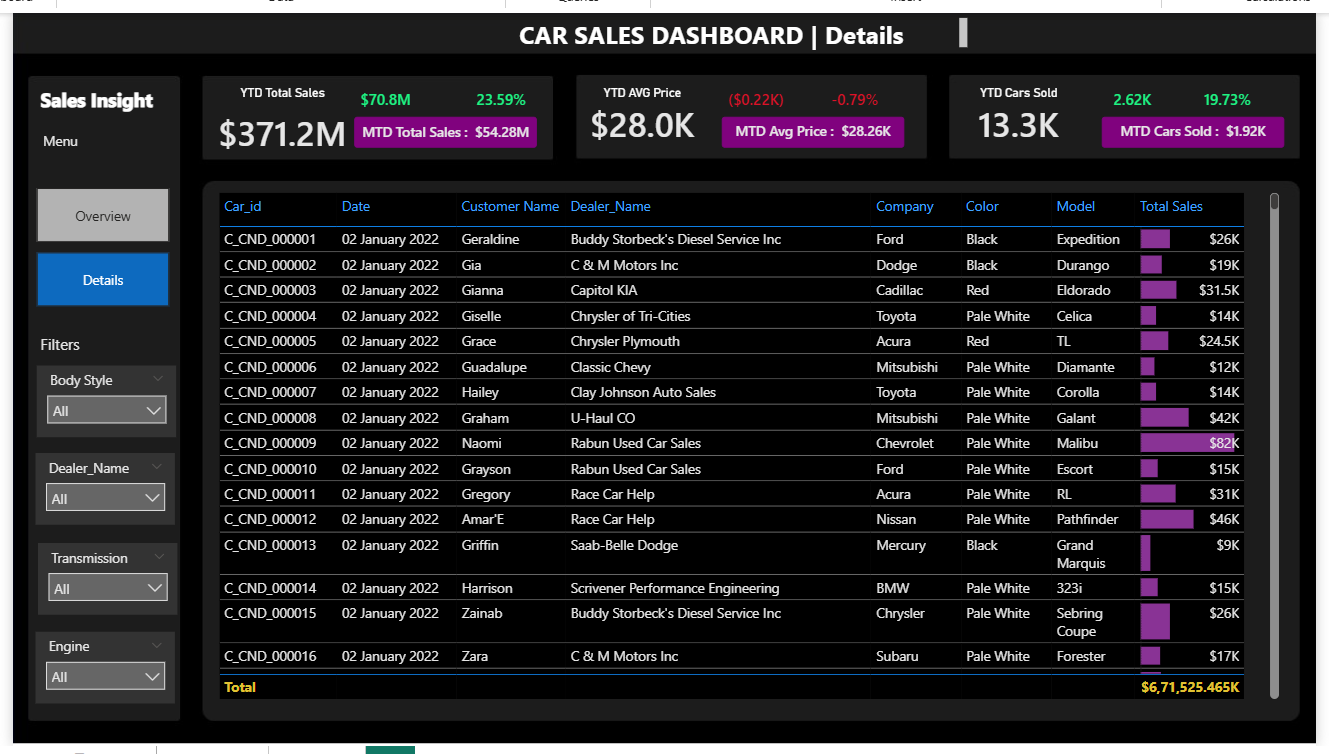

The page's visual inventory and layout, read from the dashboard file:
{"tool":"powerbi","page":{"name":"Details","canvas":[1280,720],"ordinal":1},"visuals":[{"type":"card","title":"YTD Total Sales","fields":{"Values":["car_data.YTD Total Sales"]},"box":[193.3,70.7,141.4,79.4],"z":0},{"type":"card","fields":{"Values":["car_data.Sales Difference"]},"box":[334.7,70.7,62,31.7],"z":1000},{"type":"card","fields":{"Values":["car_data.YOY Sales Growth"]},"box":[445.8,70.7,67.8,31.7],"z":2000},{"type":"card","fields":{"Values":["car_data.MTD KPI"]},"box":[334.7,102.4,178.9,30],"z":3000},{"type":"card","title":"YTD AVG Price","fields":{"Values":["car_data.YTD Avg Price"]},"box":[539.6,70.7,155.8,62],"z":4000},{"type":"card","fields":{"Values":["car_data.Avg Price Diff"]},"box":[695.4,70.7,67.8,31.7],"z":5000},{"type":"card","fields":{"Values":["car_data.YoY Avg Price Growth"]},"box":[792.1,70.7,67.8,31.7],"z":6000},{"type":"card","fields":{"Values":["car_data.MTD Avg Price KPI"]},"box":[695.4,102.4,178.9,30.3],"z":7000},{"type":"card","title":"YTD Cars Sold","fields":{"Values":["car_data.YTD Cars Sold"]},"box":[908.9,70.7,155.8,62],"z":8000},{"type":"card","fields":{"Values":["car_data.Cars Sold Diff"]},"box":[1064.8,70.7,67.8,31.7],"z":9000},{"type":"card","fields":{"Values":["car_data.YoY Car Sold Growth"]},"box":[1158.5,70.7,67.8,31.7],"z":10000},{"type":"card","fields":{"Values":["car_data.MTD Cars Sold KPI"]},"box":[1069.1,102.4,178.9,30.3],"z":11000},{"type":"textbox","box":[492,0,450.1,47.6],"z":12000},{"type":"slicer","fields":{"Values":["car_data.Body Style"]},"box":[23.1,346.3,137.1,70.7],"z":13000},{"type":"slicer","fields":{"Values":["car_data.Dealer_Name"]},"box":[21.6,431.4,137.1,70.7],"z":14000},{"type":"slicer","fields":{"Values":["car_data.Transmission"]},"box":[24.5,520.8,137.1,70.7],"z":15000},{"type":"slicer","fields":{"Values":["car_data.Engine"]},"box":[21.6,607.4,137.1,70.7],"z":16000},{"type":"textbox","box":[21.6,310.2,56.3,36.1],"z":17000},{"type":"tableEx","fields":{"Values":["car_data.Car_id","car_data.Date","car_data.Customer Name","car_data.Dealer_Name","car_data.Company","car_data.Color","car_data.Model","car_data.Price ($)"]},"box":[196.2,171.7,1051.8,506.4],"z":18000},{"type":"textbox","box":[21.6,67.8,128.4,34.6],"z":19000},{"type":"pageNavigator","box":[23.3,171.8,130.1,116.6],"z":20000},{"type":"textbox","box":[24.5,111.1,50.5,34.6],"z":21000}]}

Visuals, with their boxes on the page's 1280x720 design canvas (x1, y1, x2, y2). These are canvas units, not pixel positions in the 1329x754 screenshot, which may show the page scaled, cropped or inside an application window:
"YTD Total Sales" card: locate(193, 71, 335, 150)
card - car_data.Sales Difference: locate(335, 71, 397, 102)
card - car_data.YOY Sales Growth: locate(446, 71, 514, 102)
card - car_data.MTD KPI: locate(335, 102, 514, 132)
"YTD AVG Price" card: locate(540, 71, 695, 133)
card - car_data.Avg Price Diff: locate(695, 71, 763, 102)
card - car_data.YoY Avg Price Growth: locate(792, 71, 860, 102)
card - car_data.MTD Avg Price KPI: locate(695, 102, 874, 133)
"YTD Cars Sold" card: locate(909, 71, 1065, 133)
card - car_data.Cars Sold Diff: locate(1065, 71, 1133, 102)
card - car_data.YoY Car Sold Growth: locate(1158, 71, 1226, 102)
card - car_data.MTD Cars Sold KPI: locate(1069, 102, 1248, 133)
textbox: locate(492, 0, 942, 48)
slicer - car_data.Body Style: locate(23, 346, 160, 417)
slicer - car_data.Dealer_Name: locate(22, 431, 159, 502)
slicer - car_data.Transmission: locate(24, 521, 162, 592)
slicer - car_data.Engine: locate(22, 607, 159, 678)
textbox: locate(22, 310, 78, 346)
tableEx - car_data.Car_id x car_data.Date: locate(196, 172, 1248, 678)
textbox: locate(22, 68, 150, 102)
pageNavigator: locate(23, 172, 153, 288)
textbox: locate(24, 111, 75, 146)
